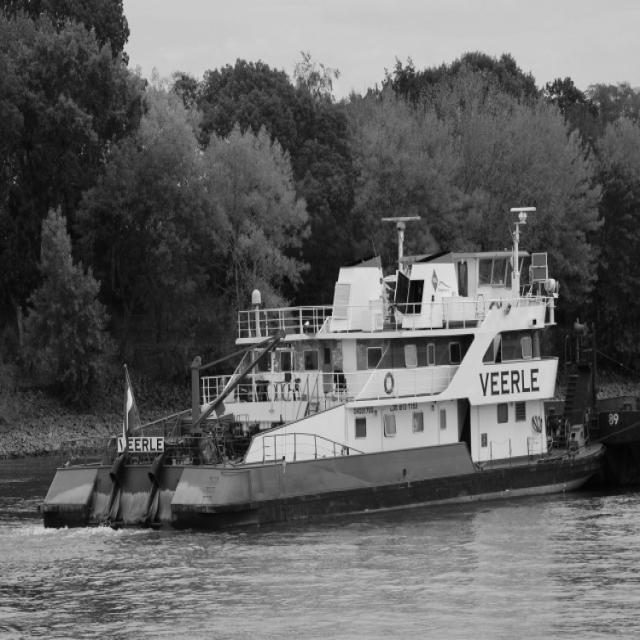tugboat: (28, 203, 612, 572)
